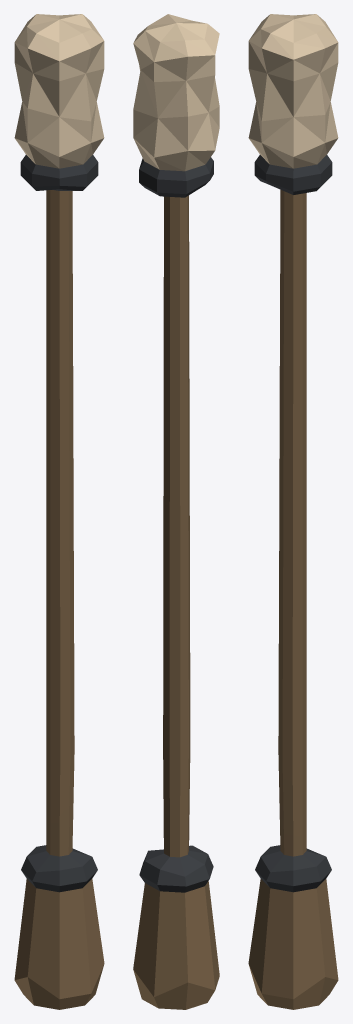
Rendered from SM_Prop_Cannon_Plunger_01.fbx.
3 views of the same model, side by side, from view 1: azimuth 90°, elevation 25°; view 2: azimuth 150°, elevation 25°; view 3: azimuth 270°, elevation 25° (orthographic).
Visible parts, largest first — view 1: SM_Prop_Cannon_Plunger_01; view 2: SM_Prop_Cannon_Plunger_01; view 3: SM_Prop_Cannon_Plunger_01.
Part boxes in pixels (x1,y1,x2,y2): SM_Prop_Cannon_Plunger_01: (14,14,104,1009); SM_Prop_Cannon_Plunger_01: (133,14,219,1009); SM_Prop_Cannon_Plunger_01: (248,14,338,1009).
Size of the model in its own units: 13.98 by 167 by 13.98.
